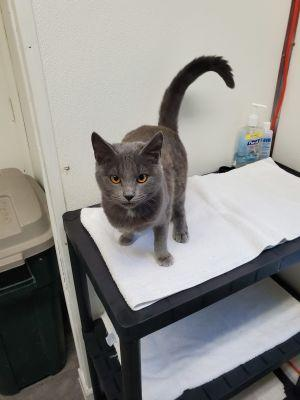rblue: (84, 123, 175, 222)
